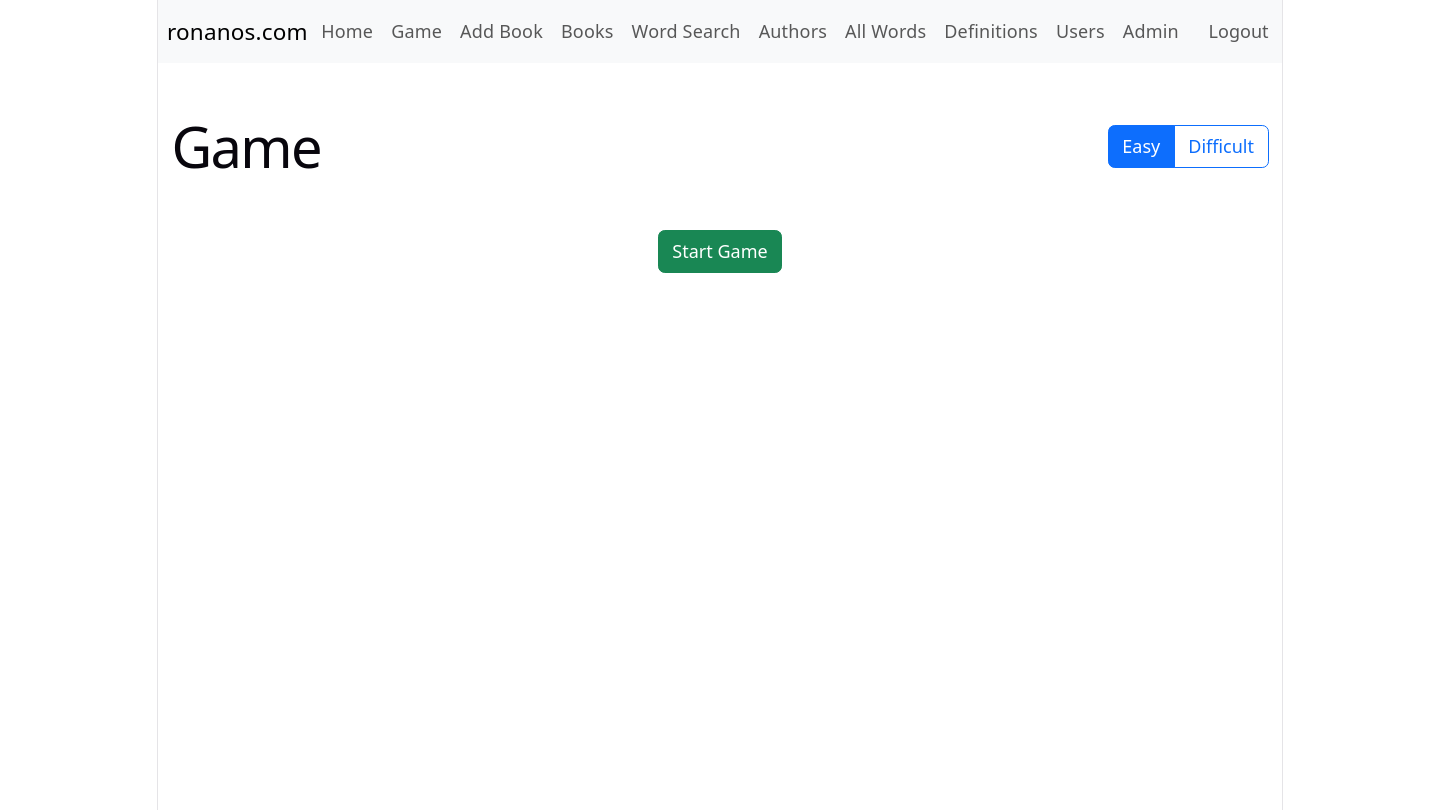
Test: Game › loads difficult mode questions
Click the button "Difficult" at (1221, 147), box [1174, 125, 1268, 168]
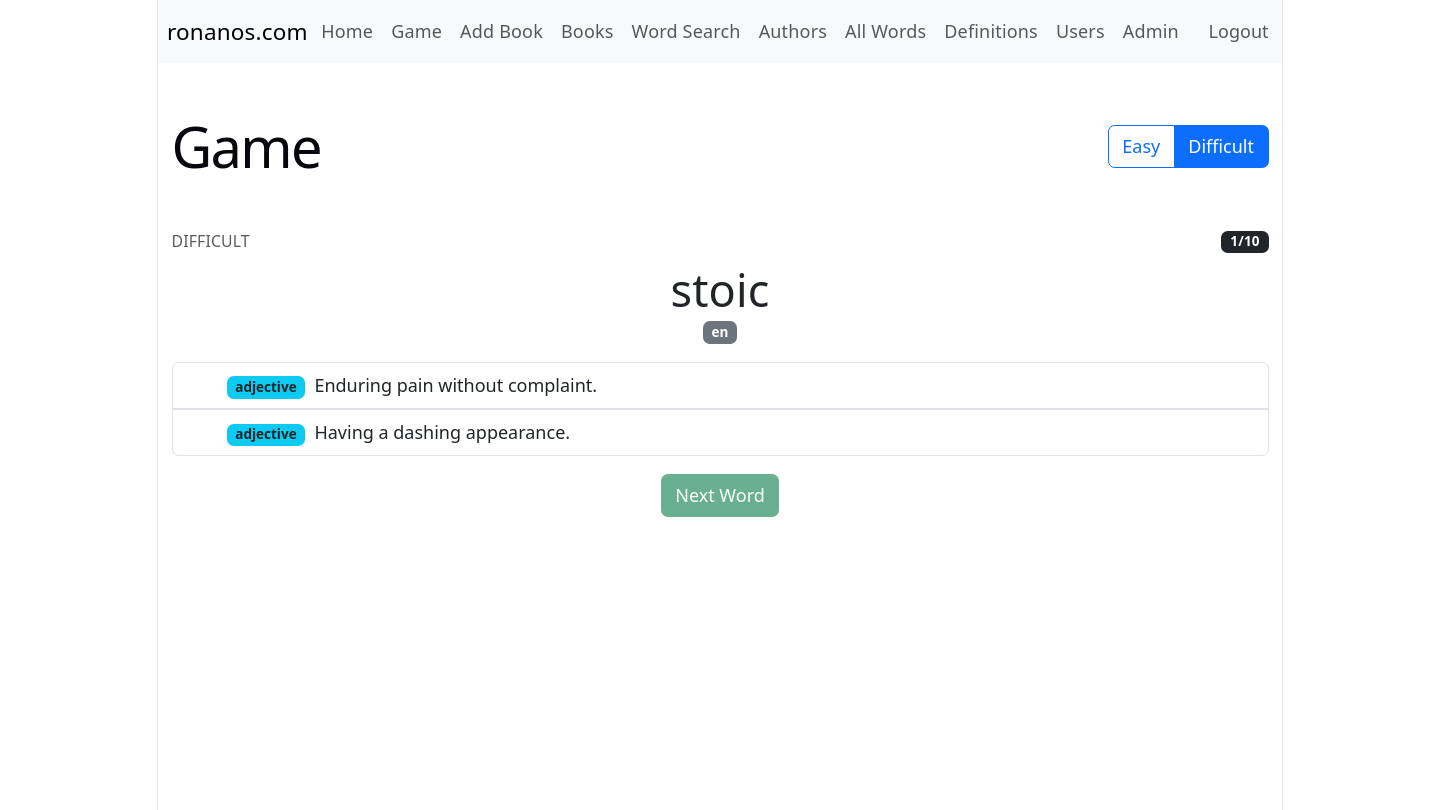
Expected: the text "stoic" is shown, [670, 259, 770, 320]
